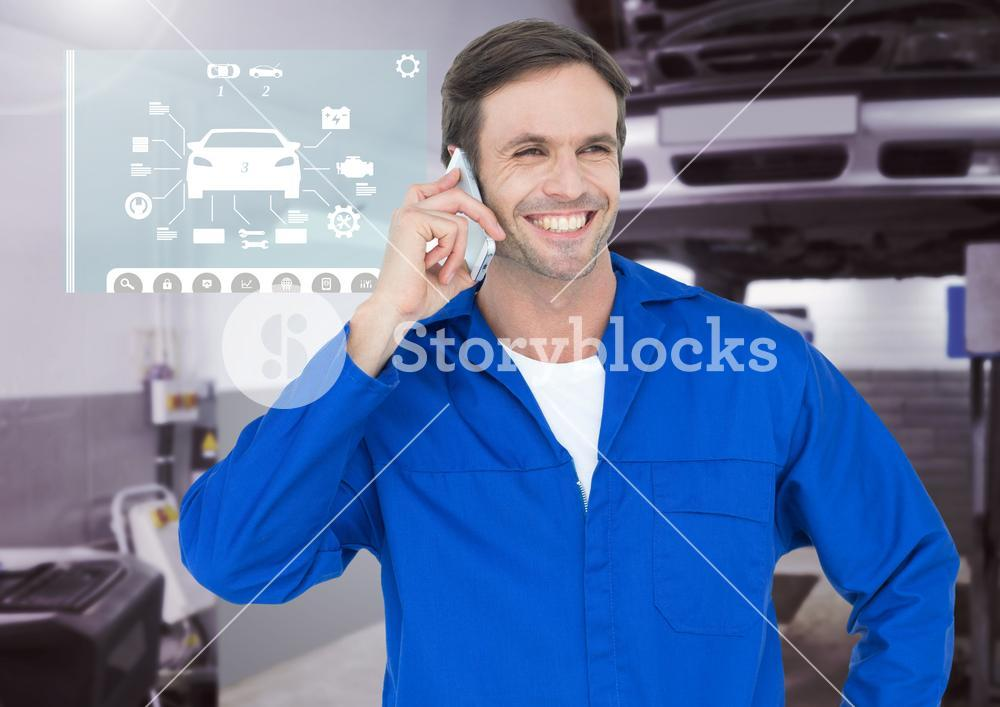phone: (430, 138, 494, 282)
talk: (382, 112, 624, 318)
